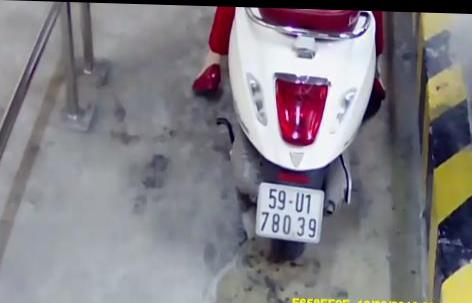License_Plate: (249, 176, 334, 248)
